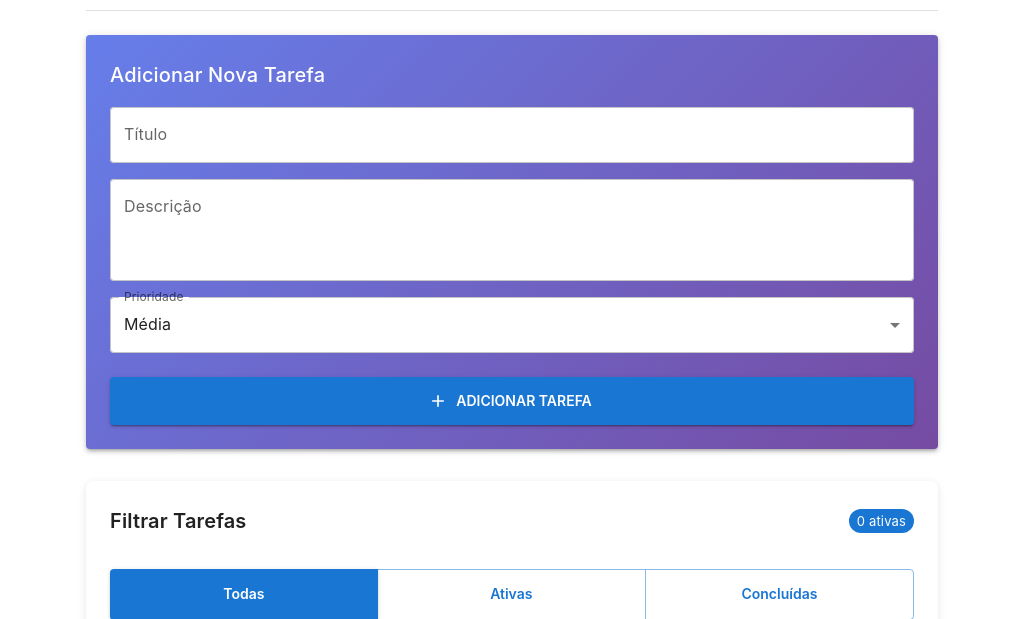
Test case: Integração: Fluxo Completo de Tarefas › Cenário 4: Remover Tarefas › deve permitir remover tarefas individualmente
Type "Tarefa para Manter" into the field labelled "Título" at point(512, 135), box 110,107 -> 914,163
Type "Descrição" into the text box labelled "Descrição" at point(512, 230), box 124,195 -> 900,264
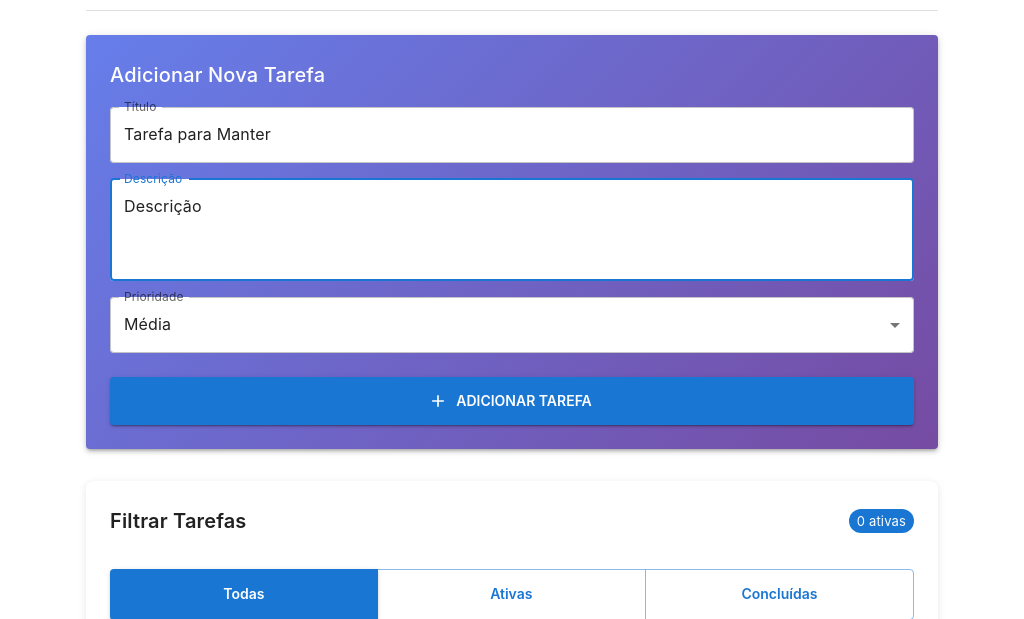
Click the button with test id "botao-adicionar" at point(512, 401), box 110,377 -> 914,425
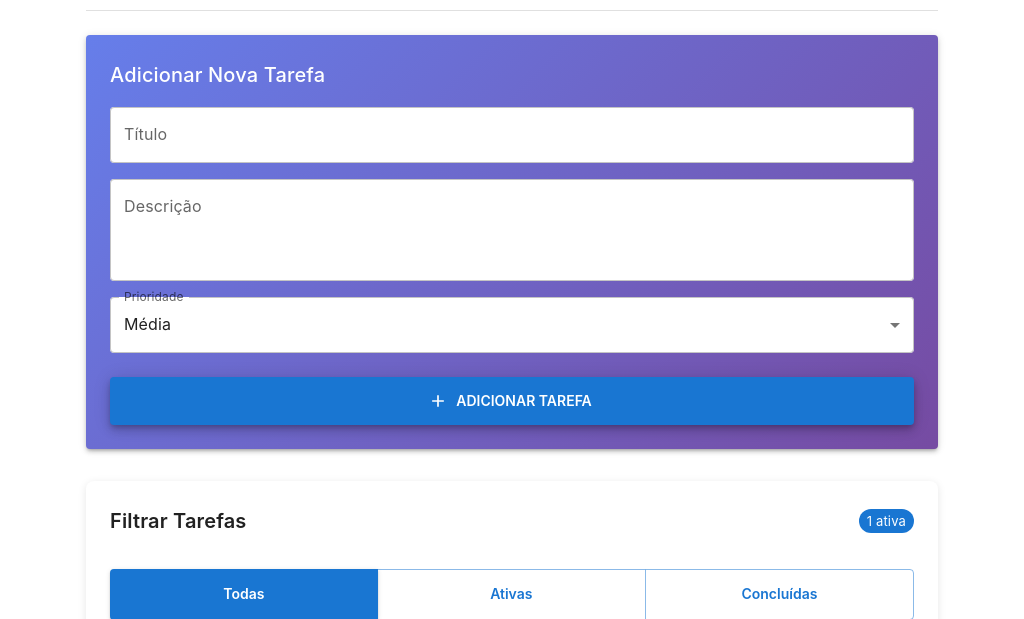
Type "Tarefa para Remover" into the field labelled "Título" at point(512, 135), box 110,107 -> 914,163
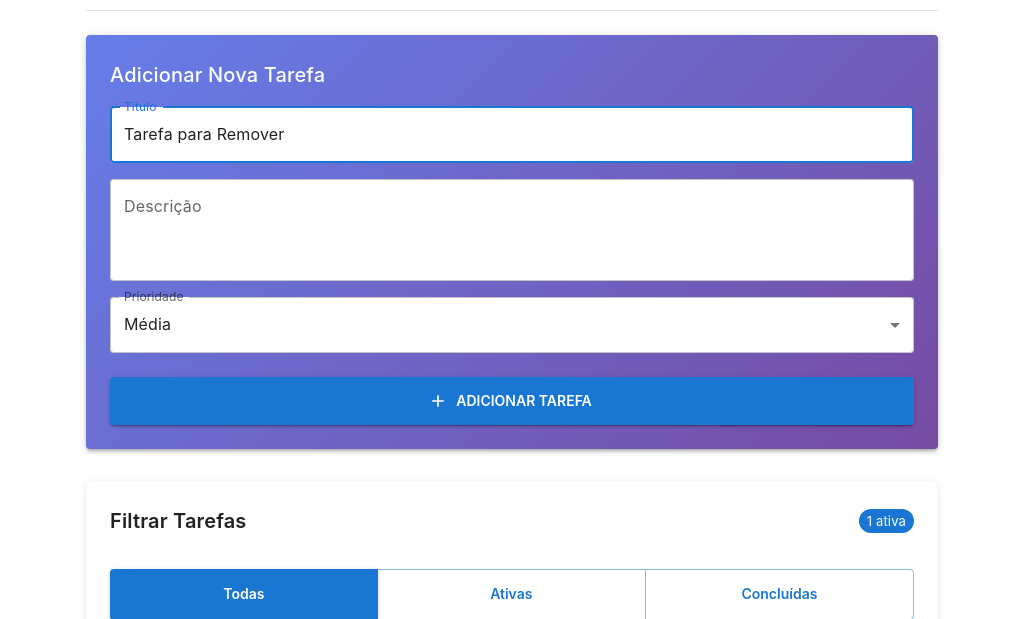
Type "Descrição" into the text box labelled "Descrição" at point(512, 230), box 124,195 -> 900,264
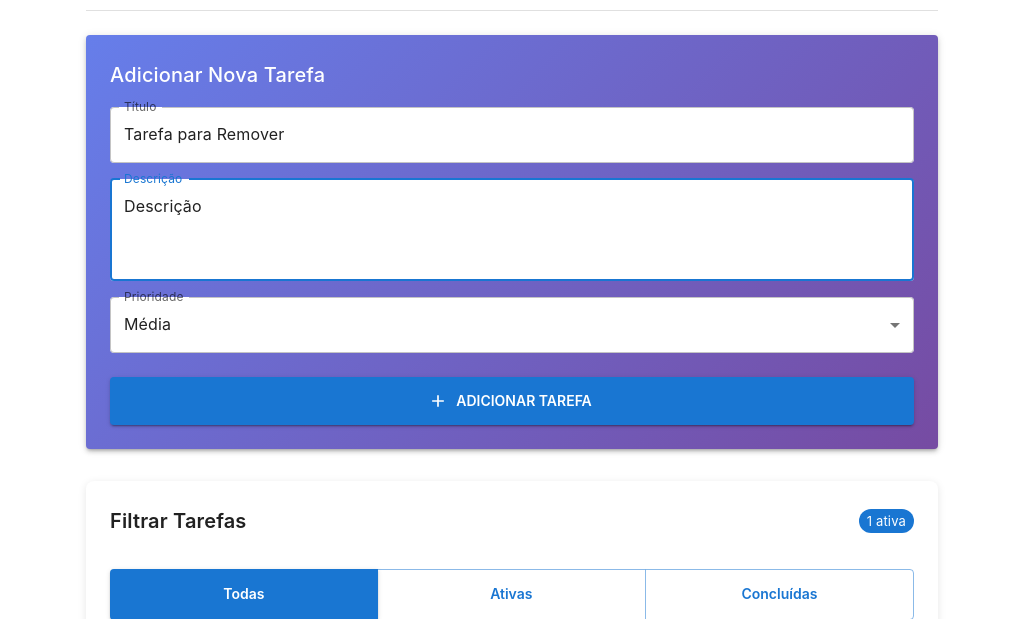
Click the button with test id "botao-adicionar" at point(512, 401), box 110,377 -> 914,425
(page scrolled)
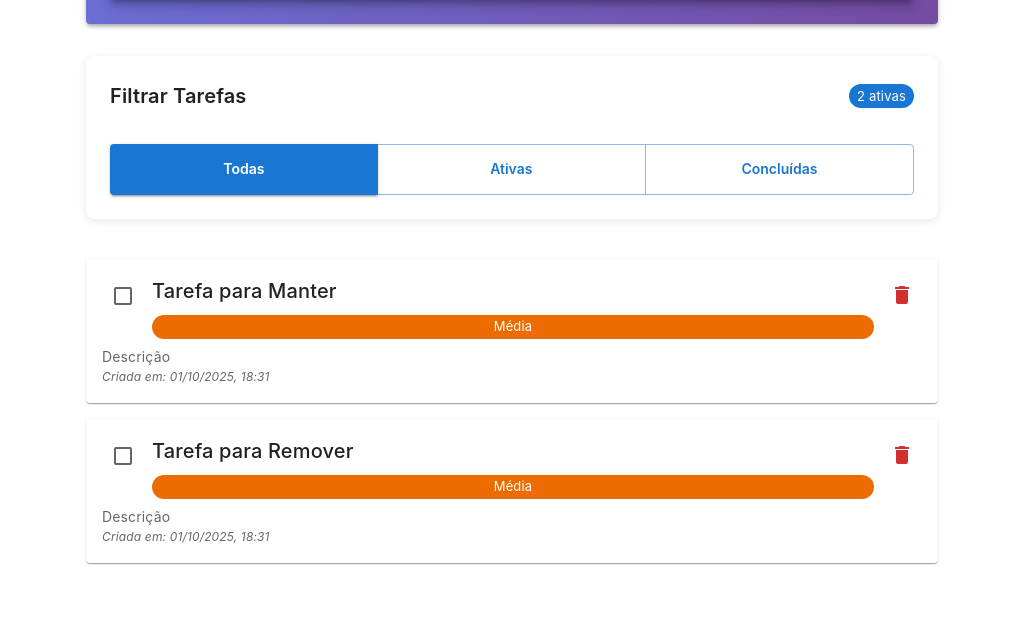
Remove a segunda tarefa
Click the 2nd button with test id "botao-remover" at point(902, 455), box 882,435 -> 922,475
(page scrolled)
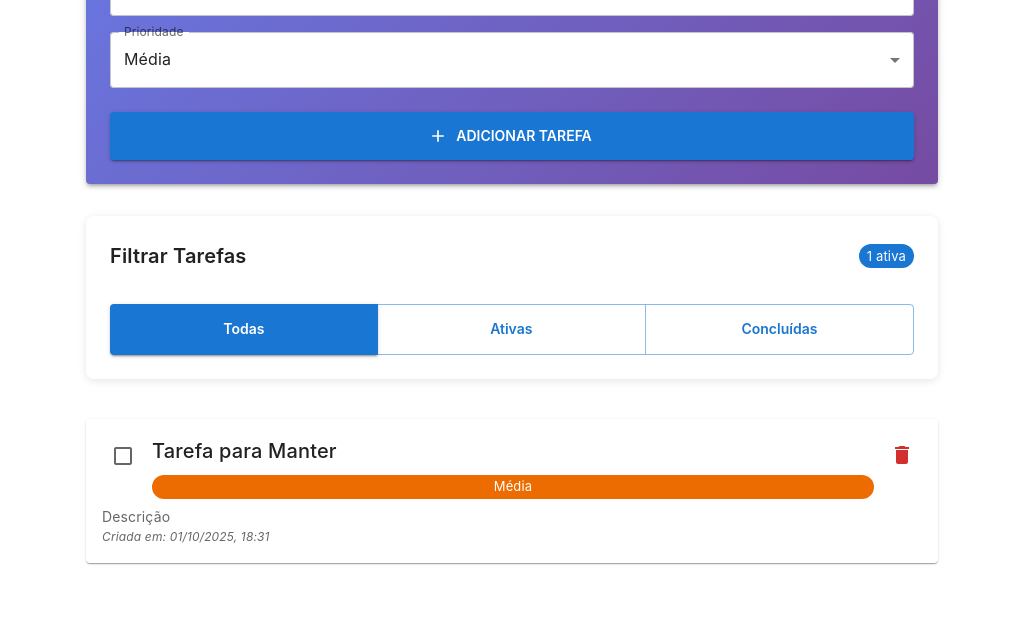
Expected: the heading "Tarefa para Manter" is shown, 152,439 -> 337,463
Expected: the heading "Tarefa para Remover" is gone
